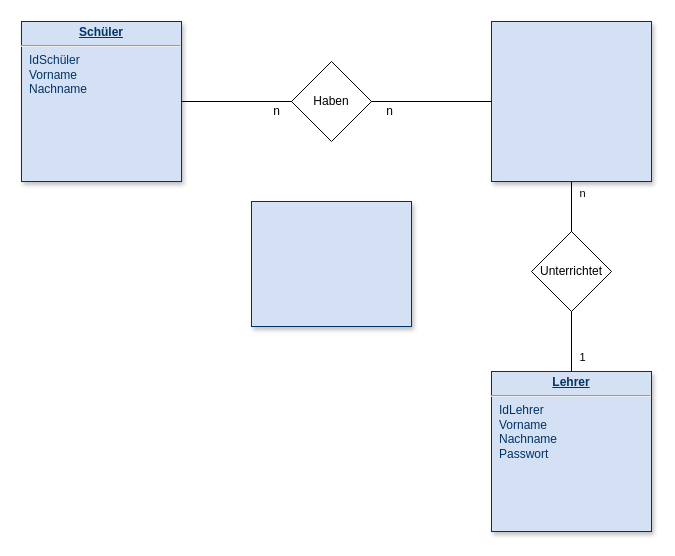
This 675x556 diagram has some shape labels left out. Each missing label, with the centre of its shape:
"Lernfeld IdLernfeld Bezeichnung IdLehrer" belongs at (572,102).
"Schüler_Lernfeld IdSchüler IdLernfeld Leistung" belongs at (332,265).
